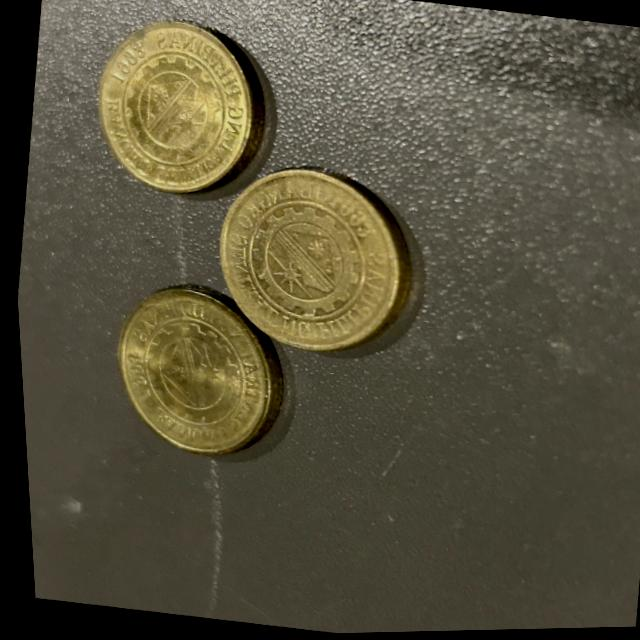25Cent_Old_Back: (199, 161, 416, 363)
